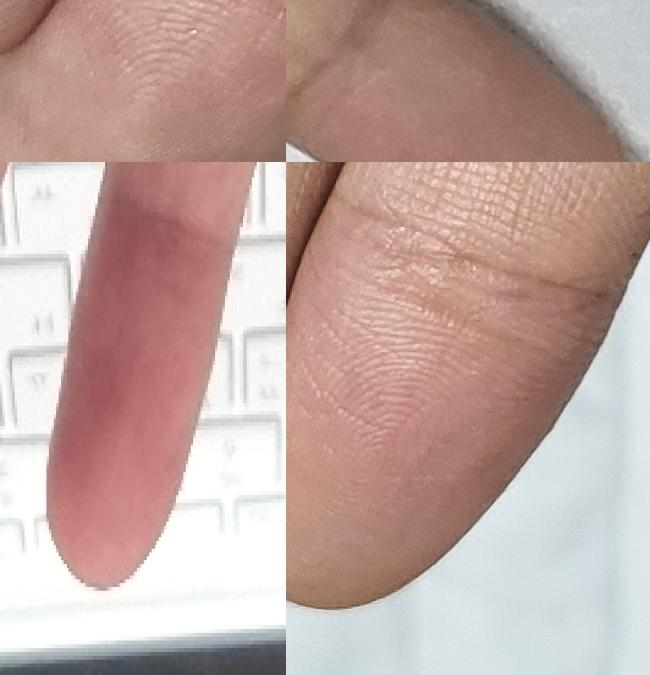Fingerprints: (286, 208, 619, 612), (46, 184, 234, 590), (286, 0, 623, 162), (0, 0, 286, 162)
